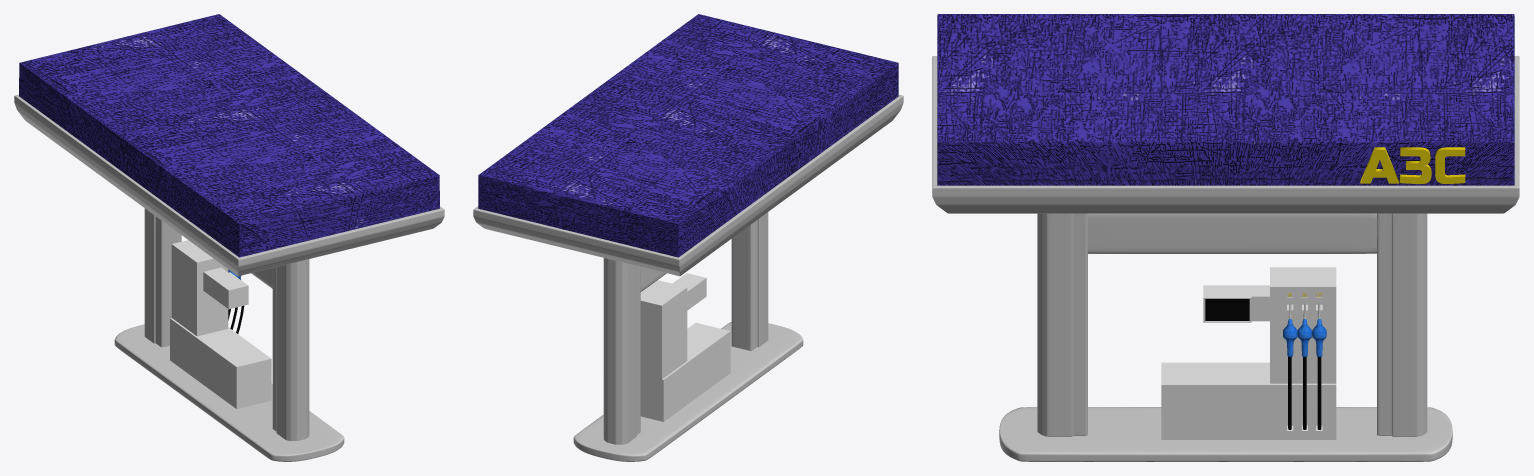
The model's file is base gas station.fbx.
3 renders of one model, left to right at view 1: azimuth 30°, elevation 25°; view 2: azimuth 150°, elevation 25°; view 3: azimuth 270°, elevation 25°, orthographic. The views are drawn at different scales.
Parts seen in each view (by area): view 1: Cube.003, Cube.001, Cube, Cube.002, Plane; view 2: Cube.003, Cube, Cube.001, Cube.002, Plane; view 3: Cube.003, Cube, Cube.001, Cube.002, Plane, Text, Куб, Cube.004, Куб.001.
Part boxes in pixels (<box>): Cube.003: <box>19,14,439,257</box>; Cube.001: <box>170,240,271,408</box>; Cube: <box>144,208,309,440</box>; Cube.002: <box>14,94,444,276</box>; Plane: <box>114,324,344,461</box>; Cube.003: <box>478,14,898,257</box>; Cube: <box>603,212,768,444</box>; Cube.001: <box>640,273,730,421</box>; Cube.002: <box>473,94,903,276</box>; Plane: <box>573,322,803,461</box>; Cube.003: <box>937,14,1514,185</box>; Cube: <box>1037,213,1427,436</box>; Cube.001: <box>1161,267,1336,439</box>; Cube.002: <box>932,56,1519,213</box>; Plane: <box>999,407,1452,461</box>; Text: <box>1360,147,1465,183</box>; Куб: <box>1283,303,1326,356</box>; Cube.004: <box>1205,299,1249,320</box>; Куб.001: <box>1288,357,1321,429</box>.
Size of the model in its own units: 909 by 1160 by 1709.
